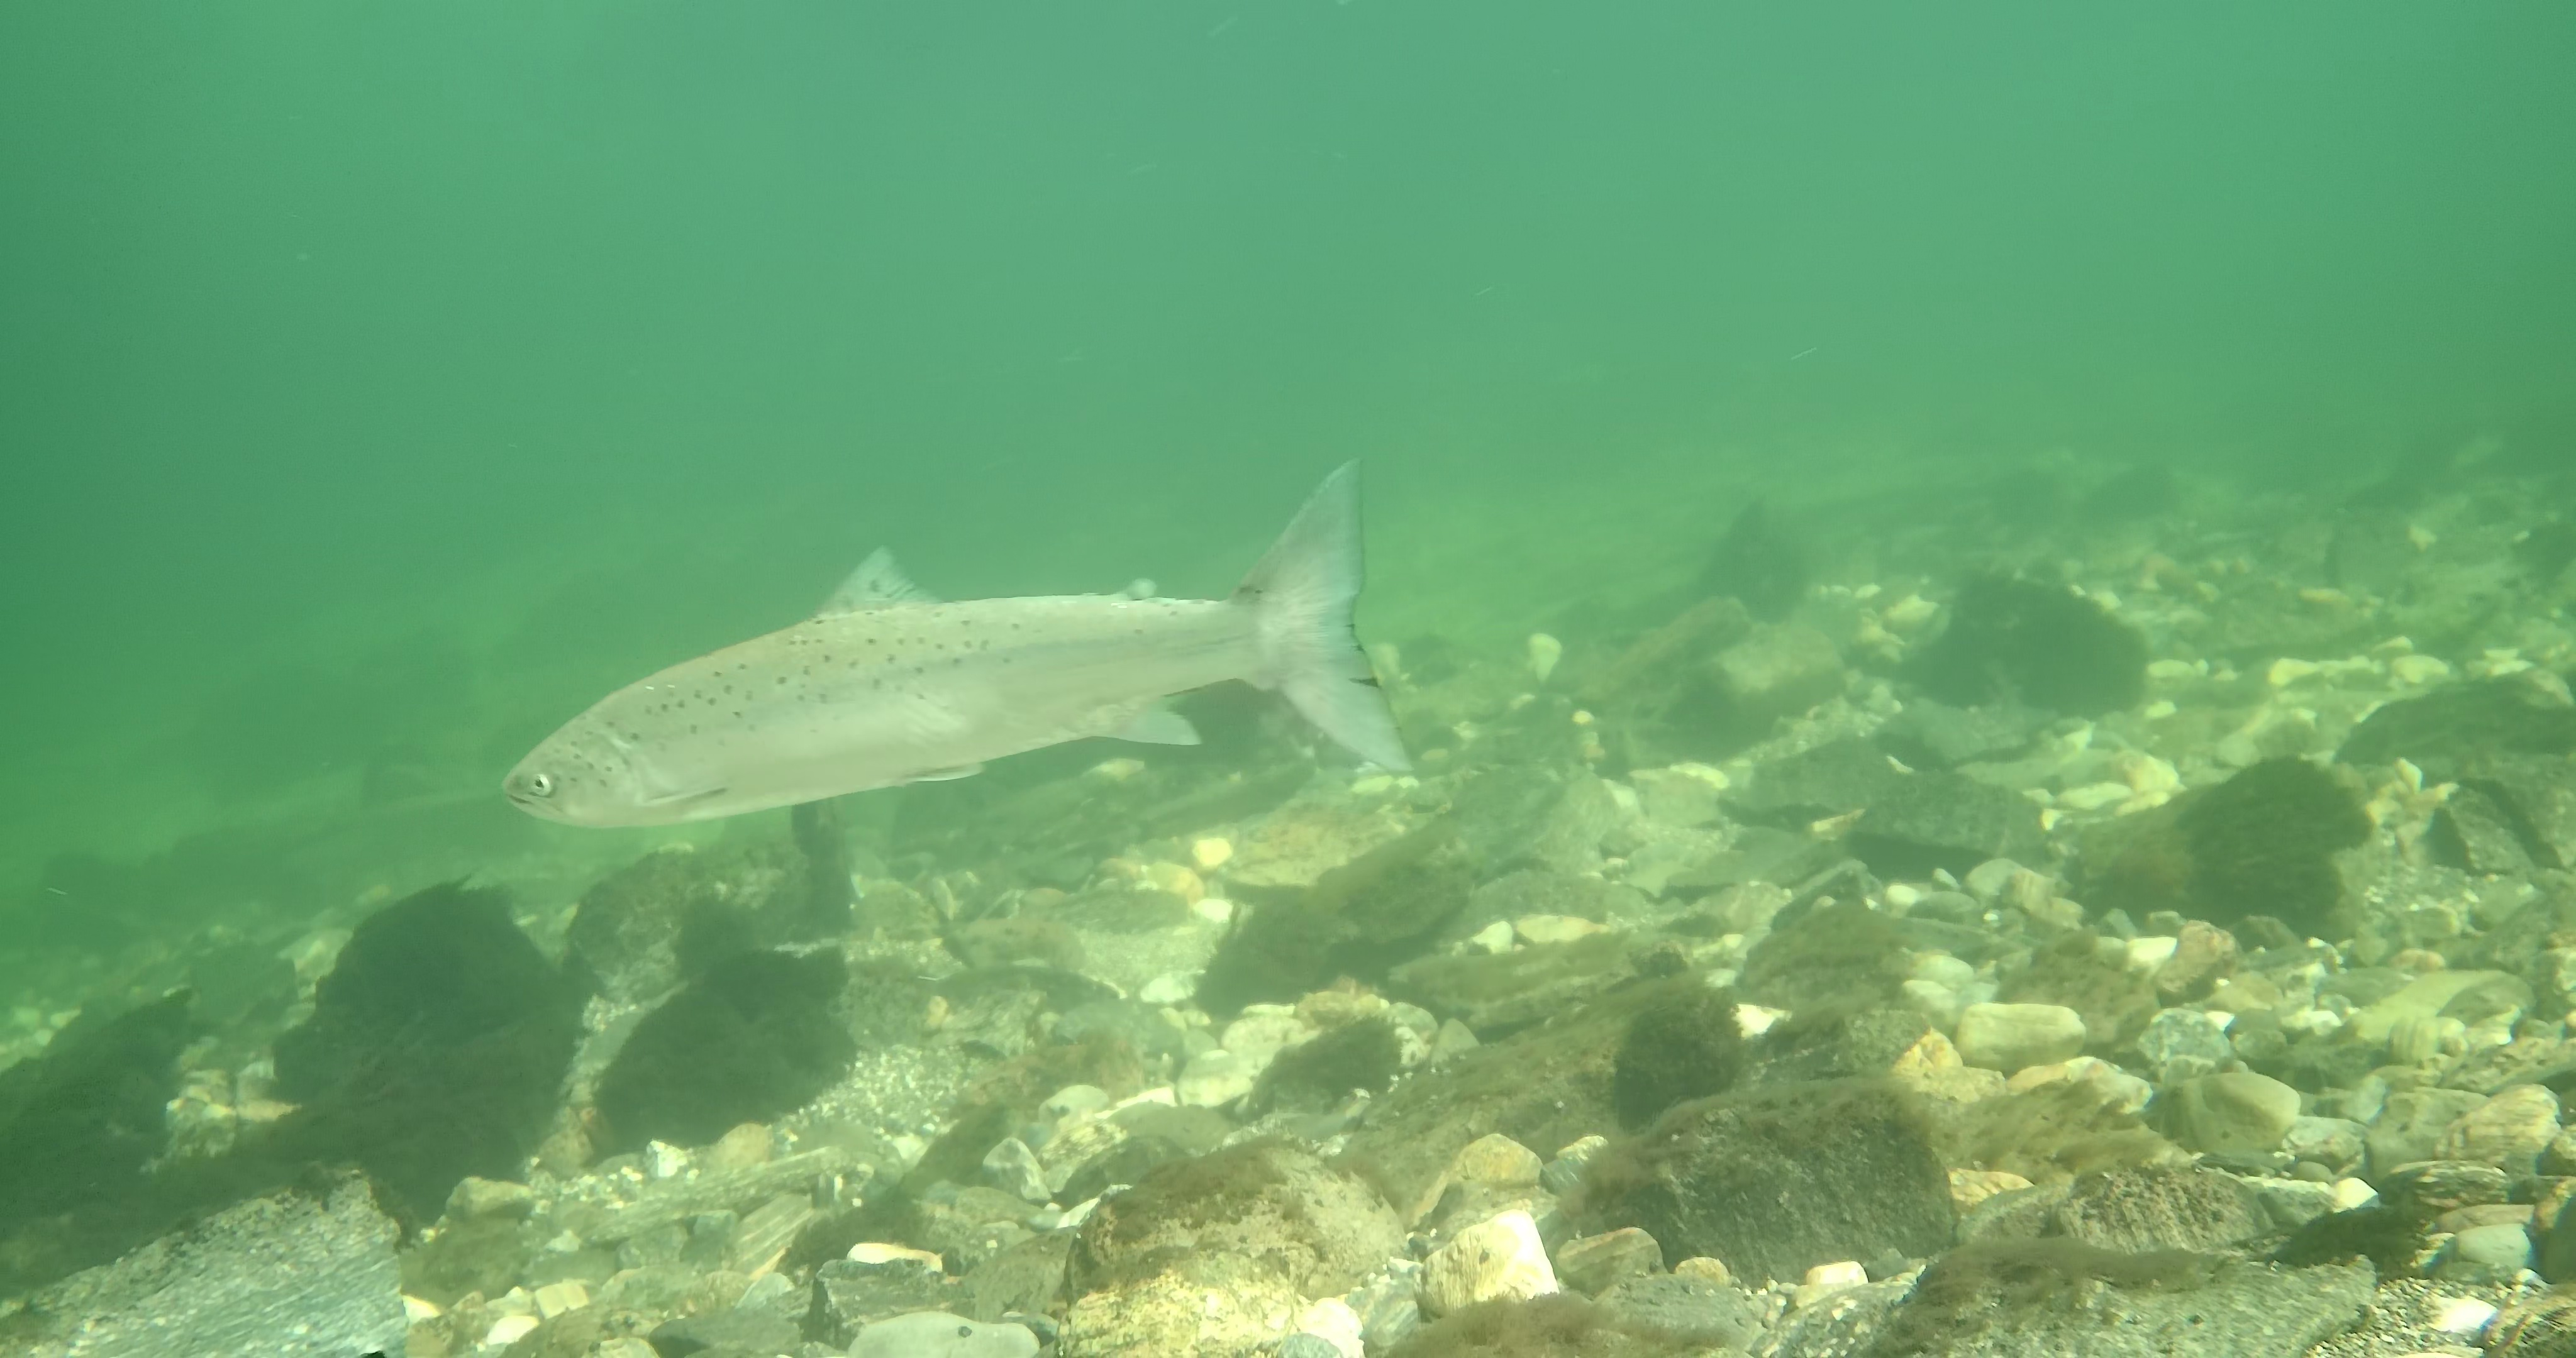salmon: (499, 452, 1421, 835)
